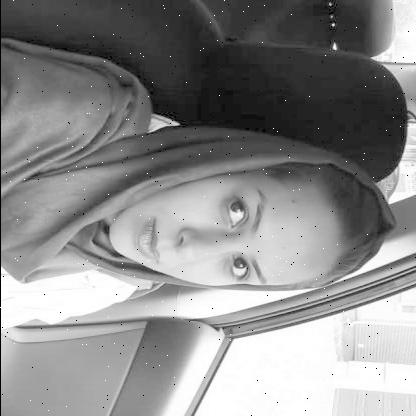no_seatbelt: (0, 86, 402, 308)
